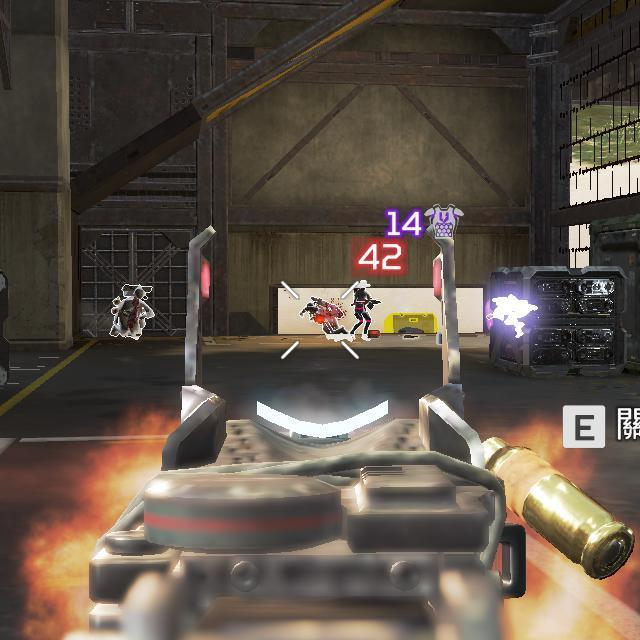avatar: (108, 283, 156, 342), (303, 295, 345, 336), (348, 287, 374, 335)
